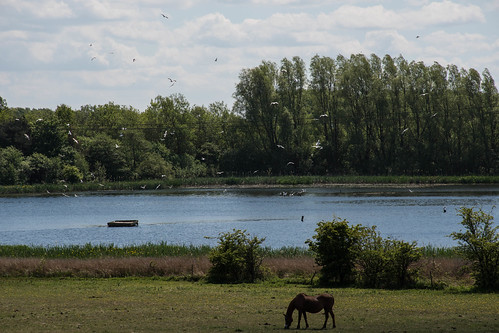animal: (282, 287, 336, 333)
grass: (1, 277, 499, 333)
river: (3, 182, 499, 247)
sky: (10, 1, 497, 89)
vegetation: (1, 78, 493, 185)
